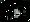person: (20, 8, 27, 20), (15, 10, 21, 19), (9, 10, 14, 20)
